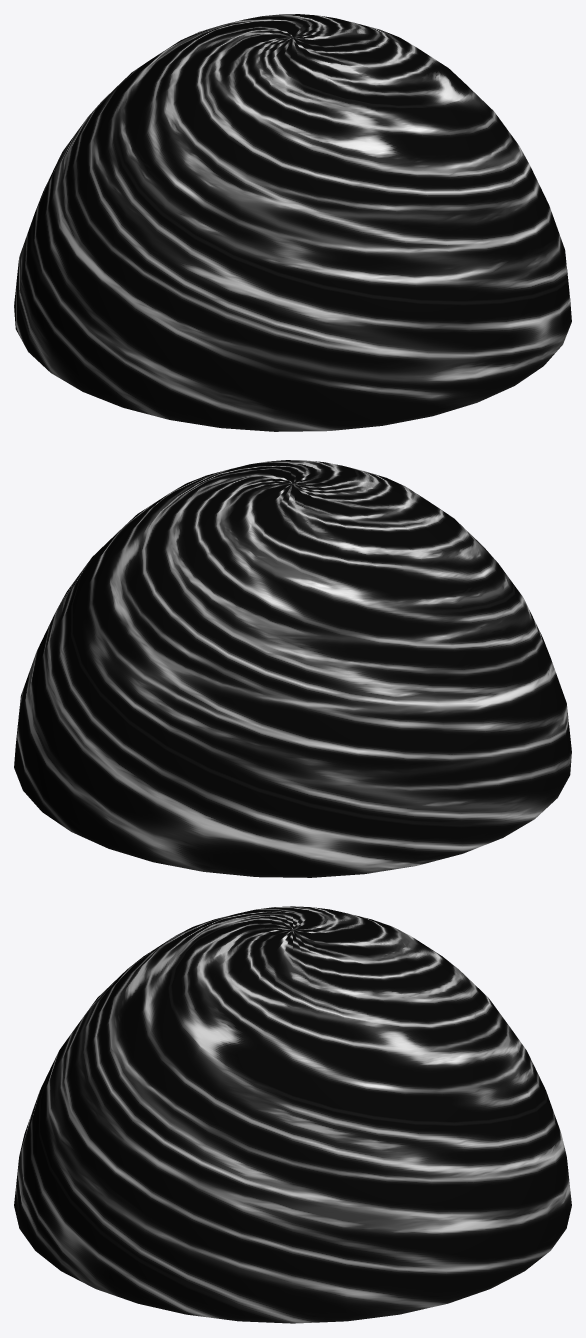
The model's file is SM_Smoke_Outside.fbx.
3 renders of one model, top to bottom at view 1: azimuth 30°, elevation 25°; view 2: azimuth 150°, elevation 25°; view 3: azimuth 270°, elevation 25°, orthographic.
Parts seen in each view (by area): view 1: SM_Smoke_Outside; view 2: SM_Smoke_Outside; view 3: SM_Smoke_Outside.
Boxes of the visible parts, x1=… form: SM_Smoke_Outside: x1=14, y1=14, x2=571, y2=431; SM_Smoke_Outside: x1=14, y1=460, x2=571, y2=877; SM_Smoke_Outside: x1=14, y1=906, x2=571, y2=1323.
Bounding box in the file's own units: 219 × 119 × 219.
